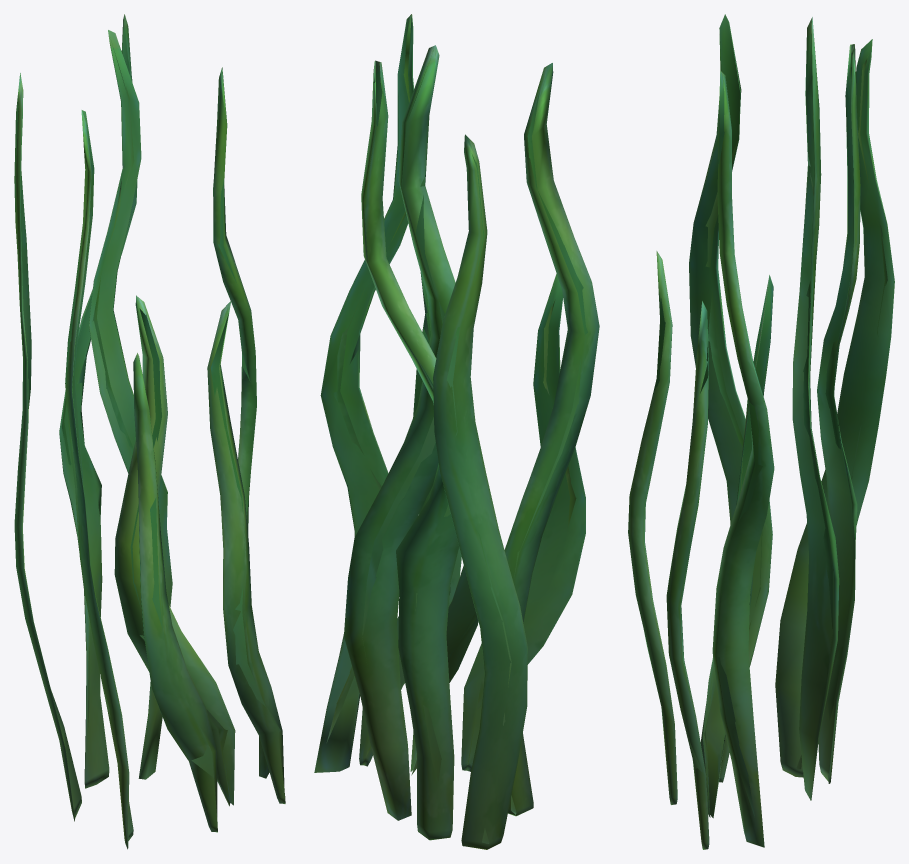
File: Plants_3.fbx
3 renders of one model, left to right at view 1: azimuth 30°, elevation 25°; view 2: azimuth 150°, elevation 25°; view 3: azimuth 270°, elevation 25°, orthographic. The views are drawn at different scales.
Parts seen in each view (by area): view 1: low poly plants.002; view 2: low poly plants.002; view 3: low poly plants.002.
Part boxes in pixels (left/top/right/bottom): low poly plants.002: left=14, top=14, right=285, bottom=849; low poly plants.002: left=314, top=14, right=599, bottom=849; low poly plants.002: left=628, top=14, right=894, bottom=849.
Size of the model in its own units: 1.3 by 4.03 by 1.25.
Materials: 1 (1 with a texture image).
